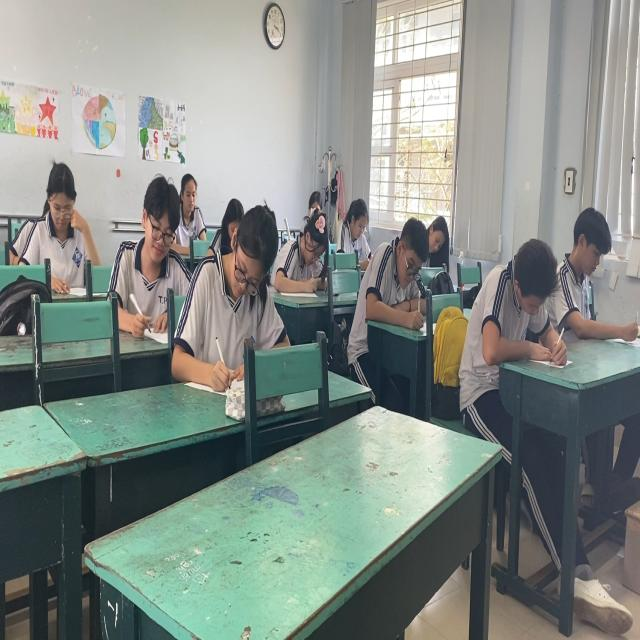not_cheating: (182, 179, 276, 386), (555, 204, 639, 352), (478, 237, 561, 375), (112, 172, 188, 317), (23, 161, 102, 276), (275, 206, 334, 300), (379, 214, 429, 306), (338, 192, 371, 258), (428, 212, 448, 265)
